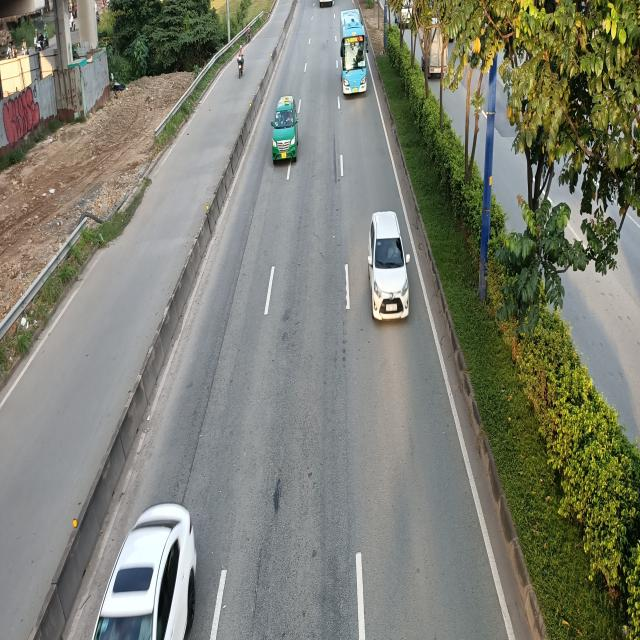car: (366, 212, 408, 325), (272, 95, 301, 163)
coach: (339, 8, 369, 97)
